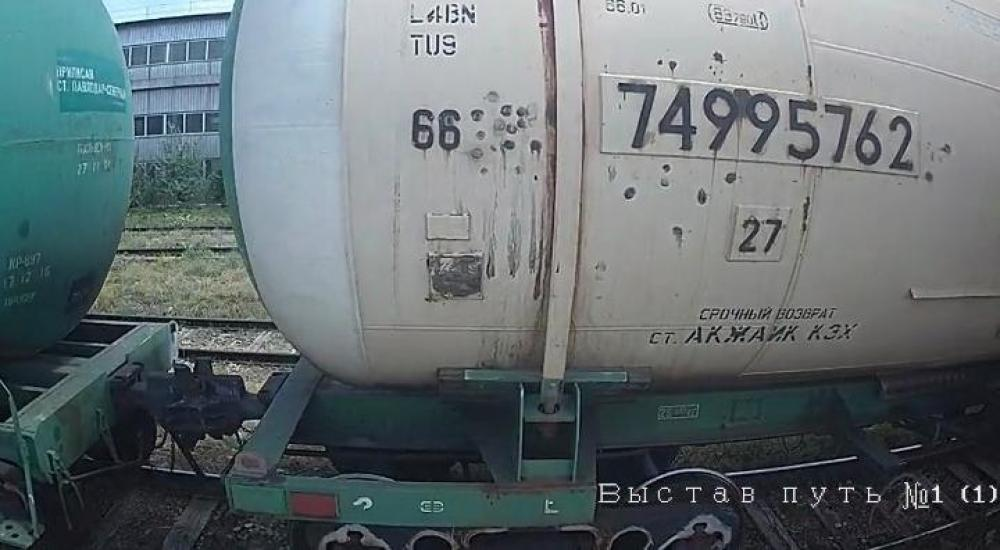Wagon-number: (606, 77, 918, 177)
